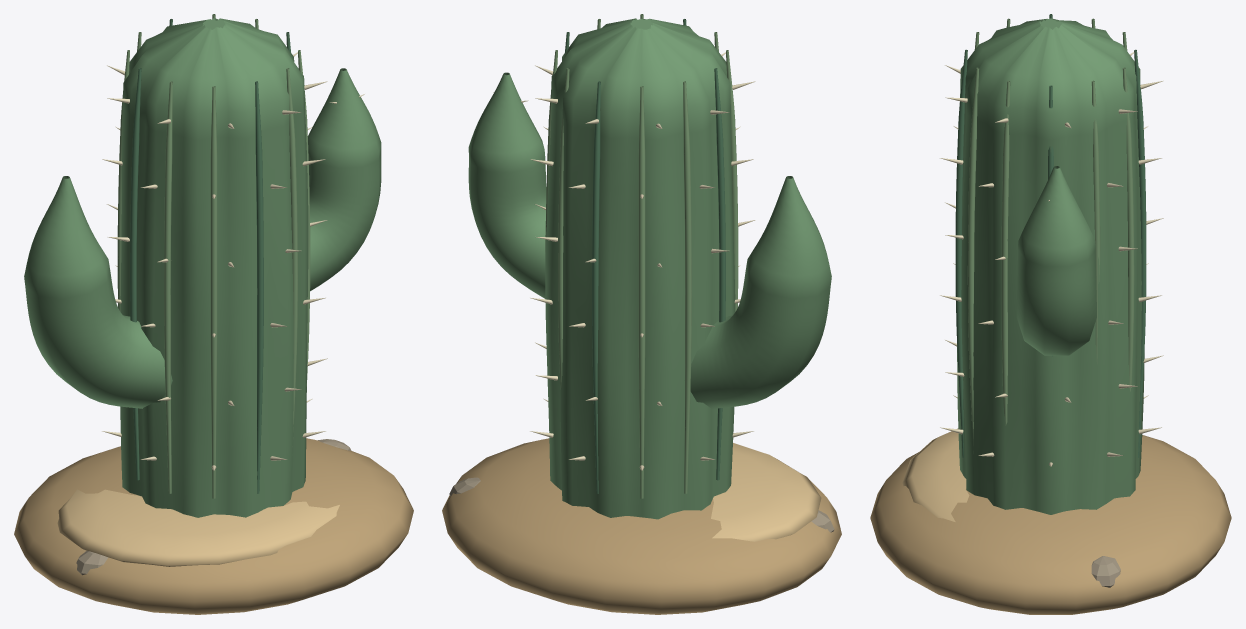
File: cacto_deserto.glb
3 views of the same model, side by side, from view 1: azimuth 30°, elevation 25°; view 2: azimuth 150°, elevation 25°; view 3: azimuth 270°, elevation 25° (orthographic).
Visible parts, largest first — view 1: Deserto | Cacto | verde sálvia, Pequena elevação de areia, Faixa de areia iluminada, Deserto | Cacto | costelas iluminadas, Deserto | Cacto | sombra, Deserto | Espinhos marfim, Deserto | Pedras do deserto; view 2: Deserto | Cacto | verde sálvia, Pequena elevação de areia, Deserto | Cacto | costelas iluminadas, Faixa de areia iluminada, Deserto | Cacto | sombra, Deserto | Espinhos marfim, Deserto | Pedras do deserto; view 3: Deserto | Cacto | verde sálvia, Pequena elevação de areia, Deserto | Cacto | costelas iluminadas, Deserto | Cacto | sombra, Faixa de areia iluminada, Deserto | Espinhos marfim, Deserto | Pedras do deserto.
Part boxes in pixels (bbox=[...]): Deserto | Cacto | verde sálvia: bbox=[24, 18, 381, 517]; Pequena elevação de areia: bbox=[14, 438, 413, 614]; Faixa de areia iluminada: bbox=[57, 489, 339, 566]; Deserto | Cacto | costelas iluminadas: bbox=[117, 14, 310, 498]; Deserto | Cacto | sombra: bbox=[130, 19, 290, 493]; Deserto | Espinhos marfim: bbox=[102, 52, 364, 470]; Deserto | Pedras do deserto: bbox=[76, 439, 351, 575]; Deserto | Cacto | verde sálvia: bbox=[468, 18, 831, 519]; Pequena elevação de areia: bbox=[442, 438, 841, 614]; Deserto | Cacto | costelas iluminadas: bbox=[545, 14, 738, 498]; Faixa de areia iluminada: bbox=[711, 443, 821, 541]; Deserto | Cacto | sombra: bbox=[564, 19, 725, 493]; Deserto | Espinhos marfim: bbox=[493, 52, 755, 470]; Deserto | Pedras do deserto: bbox=[449, 477, 834, 532]; Deserto | Cacto | verde sálvia: bbox=[957, 18, 1144, 514]; Pequena elevação de areia: bbox=[870, 435, 1231, 614]; Deserto | Cacto | costelas iluminadas: bbox=[967, 18, 1134, 453]; Deserto | Cacto | sombra: bbox=[955, 14, 1146, 457]; Faixa de areia iluminada: bbox=[902, 428, 969, 521]; Deserto | Espinhos marfim: bbox=[940, 52, 1163, 466]; Deserto | Pedras do deserto: bbox=[1091, 556, 1120, 587].
Size of the model in its own units: 0.7061 by 1.03 by 0.62.
